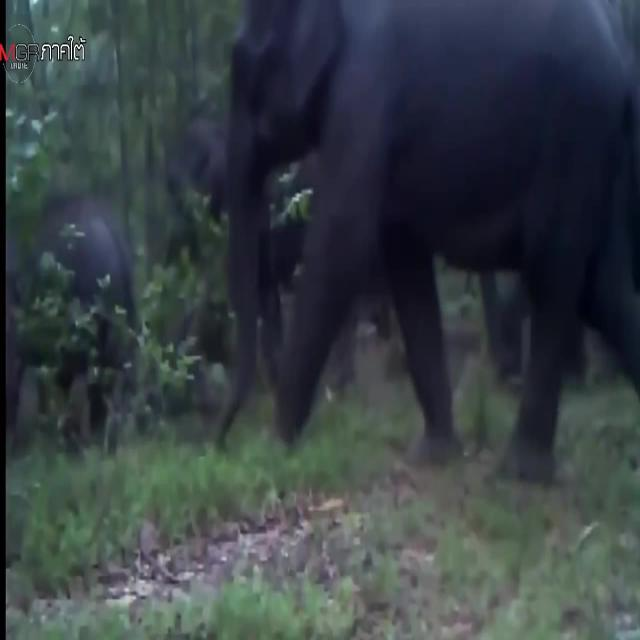Elephant: (223, 0, 605, 413), (40, 191, 132, 341)
